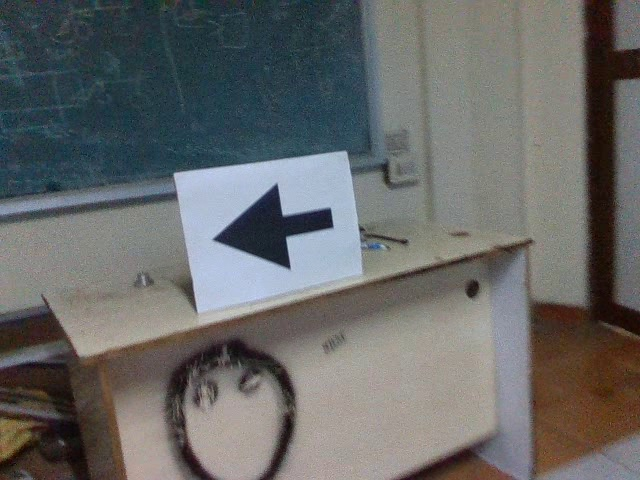Left: (207, 179, 336, 275)
